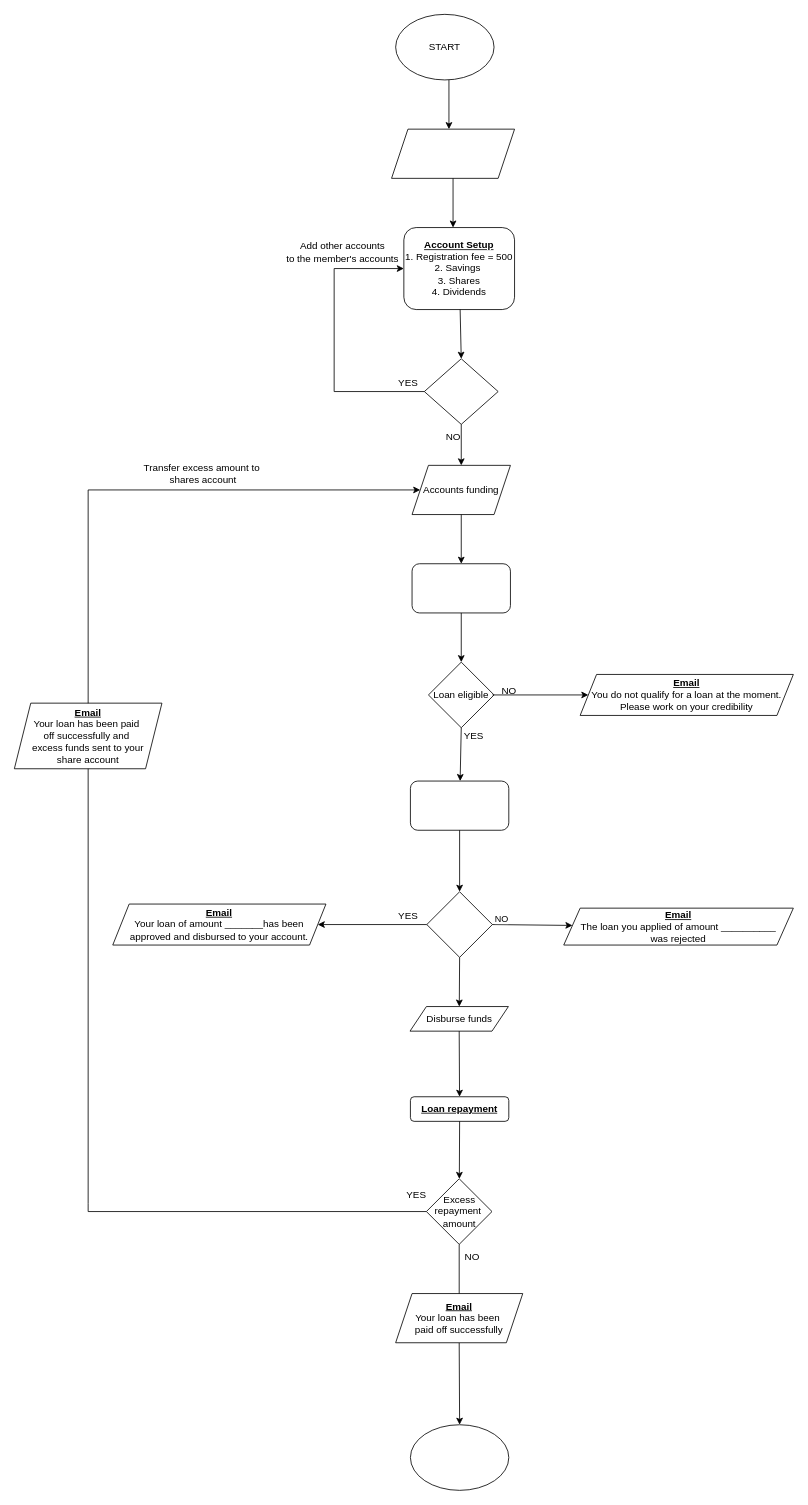
Some shapes in this 808 by 1505 pixel diagram are drawn without their labels. Here are the shapes that lost their labels. From the top down, the centre of each, then its label:
the point at 453,153: Member Registration
the point at 461,391: Other Account
the point at 460,588: Loan application
the point at 459,805: Loan approval
the point at 459,924: Approved
the point at 459,1457: STOP
